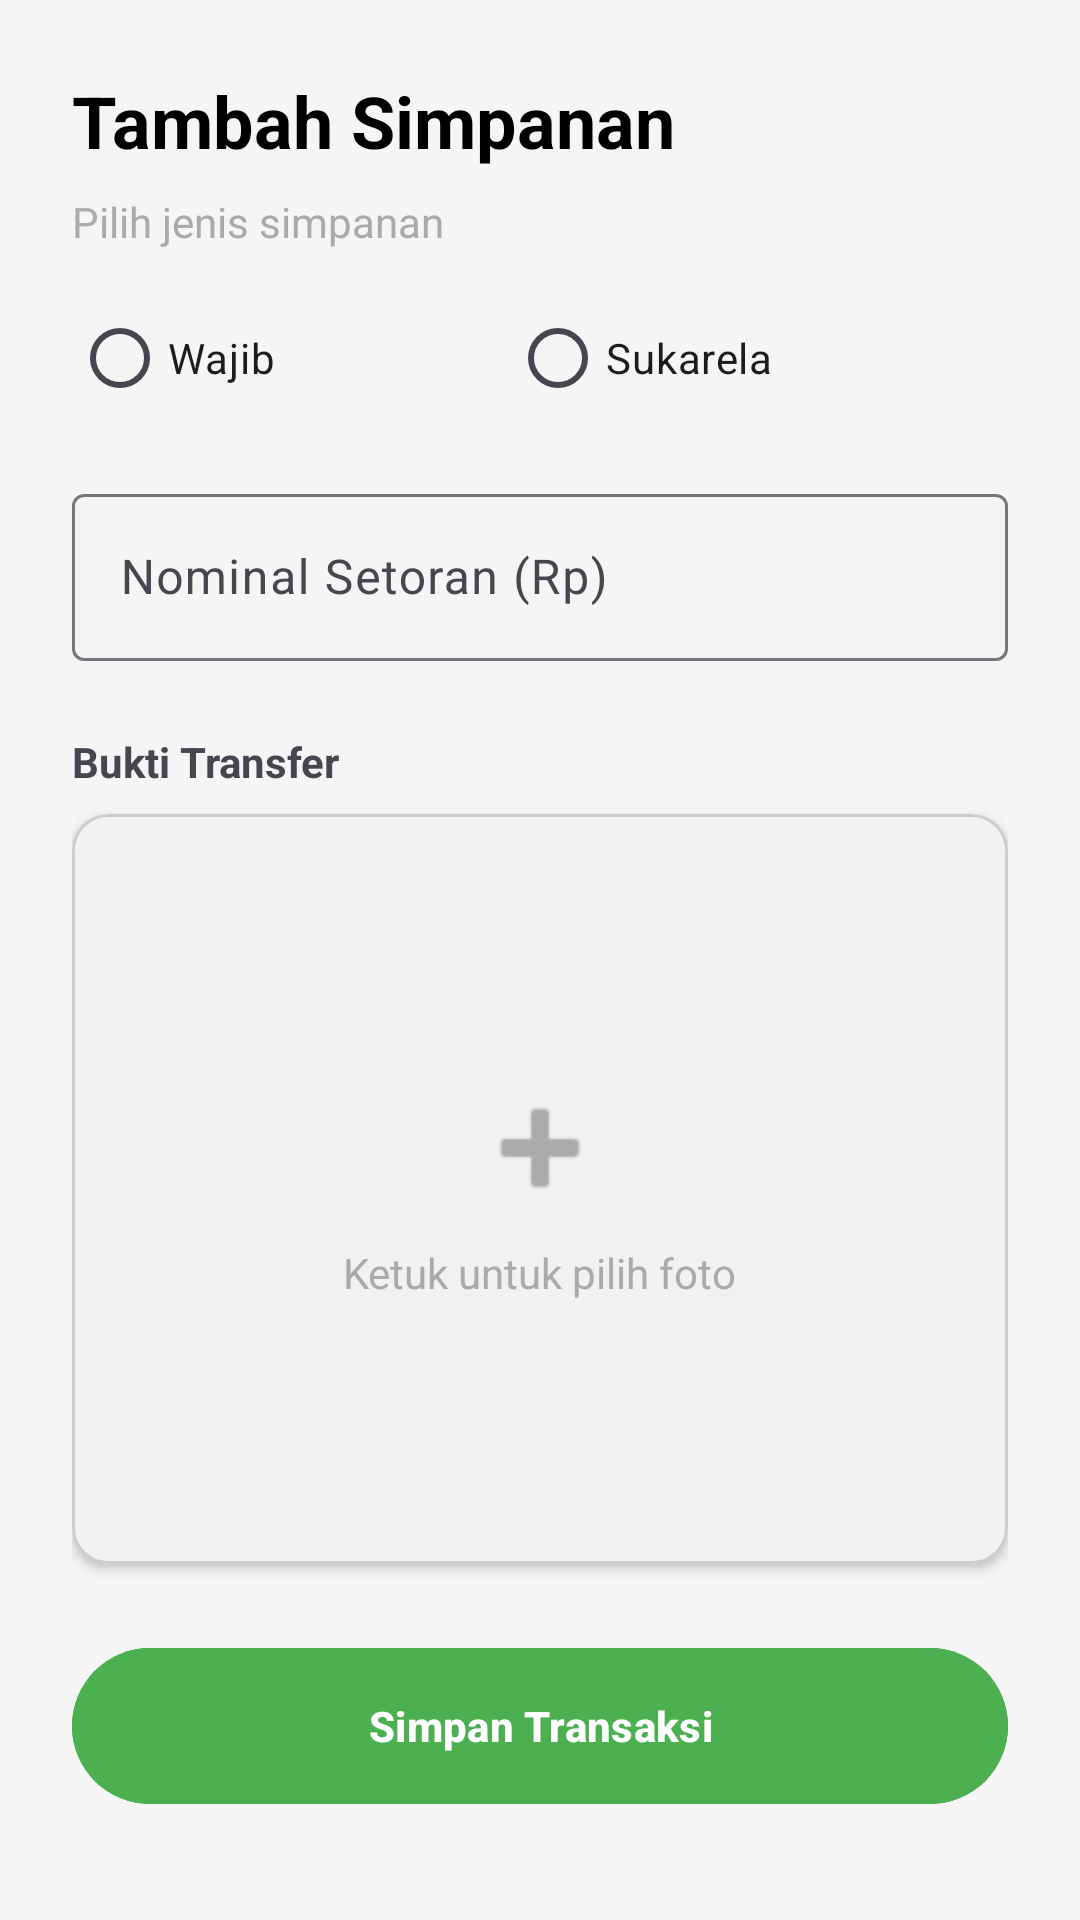

Where icons sit on this 1080px×1920px app screen, as detection(x1, y1, x2, y2):
add: detection(500, 1109, 580, 1187)
